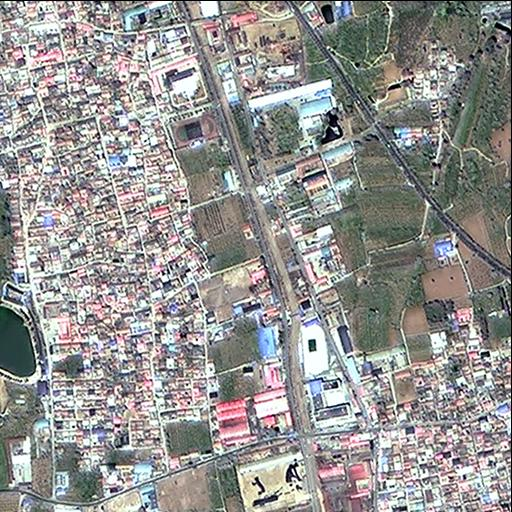school: (146, 50, 228, 147), (296, 311, 355, 431)
